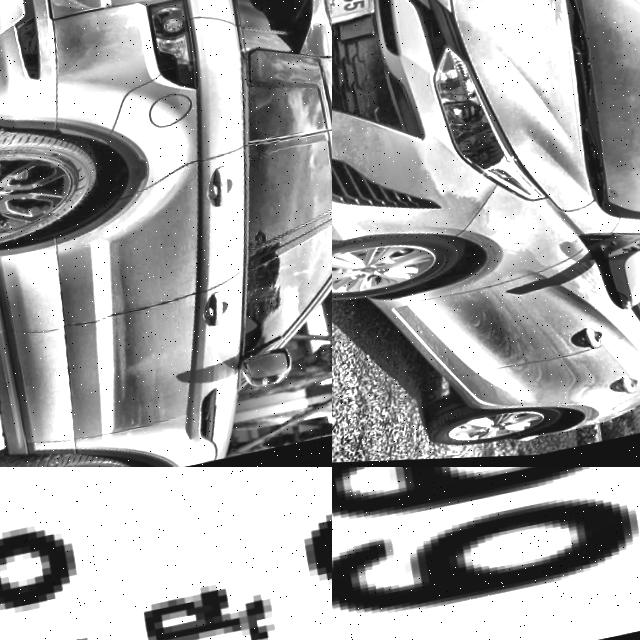license-plate: (0, 467, 332, 640), (332, 467, 640, 640)
